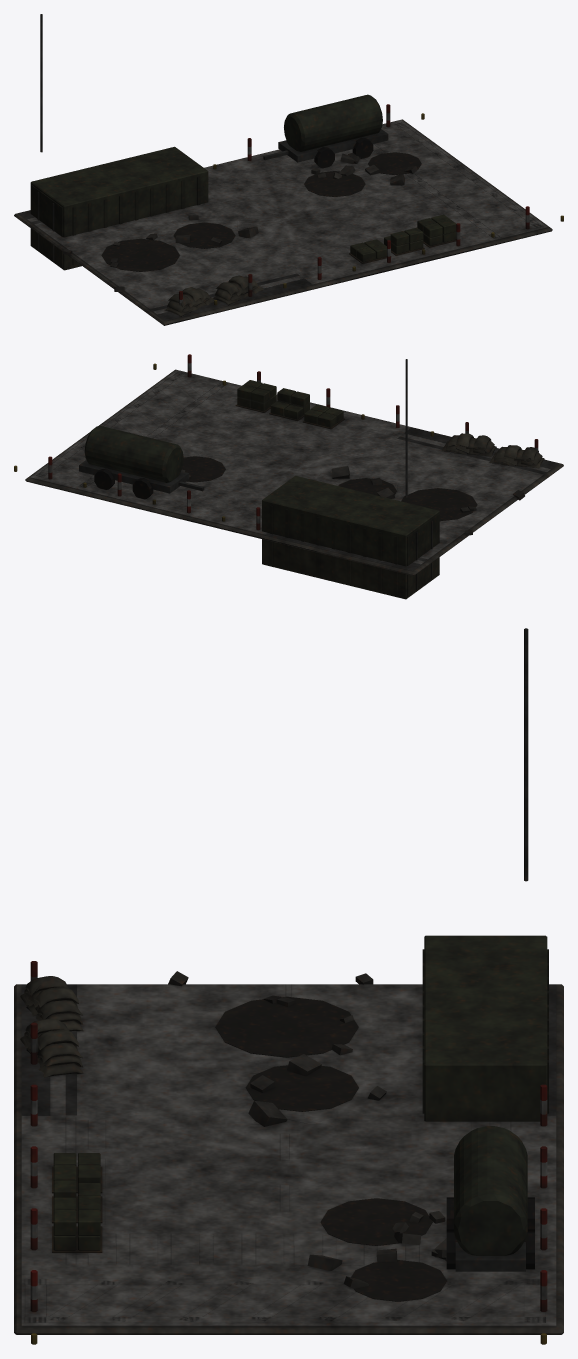
File: afld-wreck.glb
3 views of the same model, one above another, from view 1: azimuth 30°, elevation 25°; view 2: azimuth 150°, elevation 25°; view 3: azimuth 270°, elevation 25° (orthographic). The views are drawn at different scales.
Visible parts, largest first — view 1: hull; view 2: hull; view 3: hull.
Part boxes in pixels (x1,y1,x2,y2): hull: (14,14,563,325); hull: (14,354,563,599); hull: (14,628,563,1344).
Size of the model in its own units: 17.15 by 9.38 by 10.9.
1 material, 1 textured.
